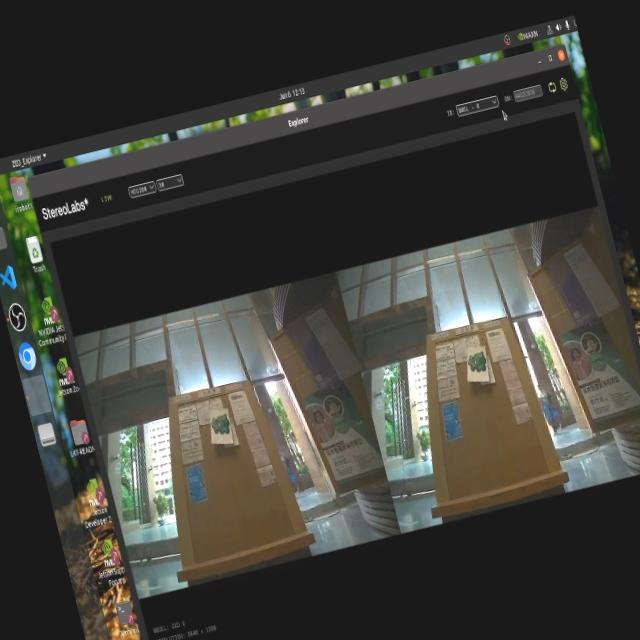green: (459, 343, 491, 389), (208, 411, 236, 452)
